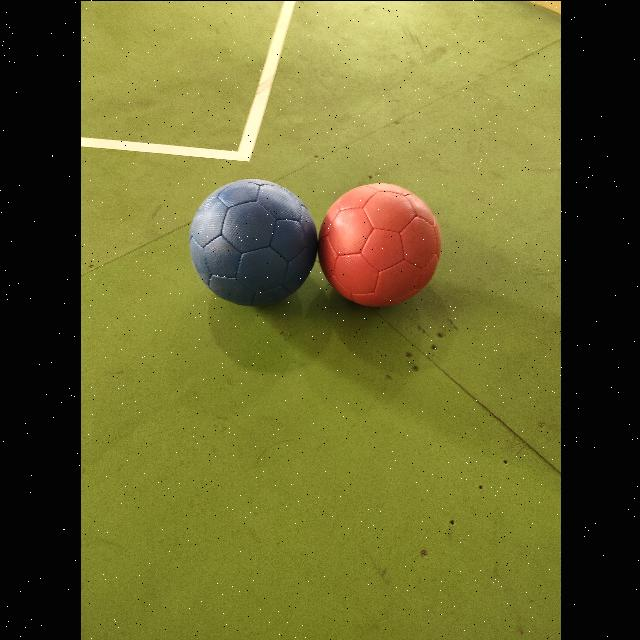B: (189, 178, 316, 305)
R: (318, 182, 440, 305)
